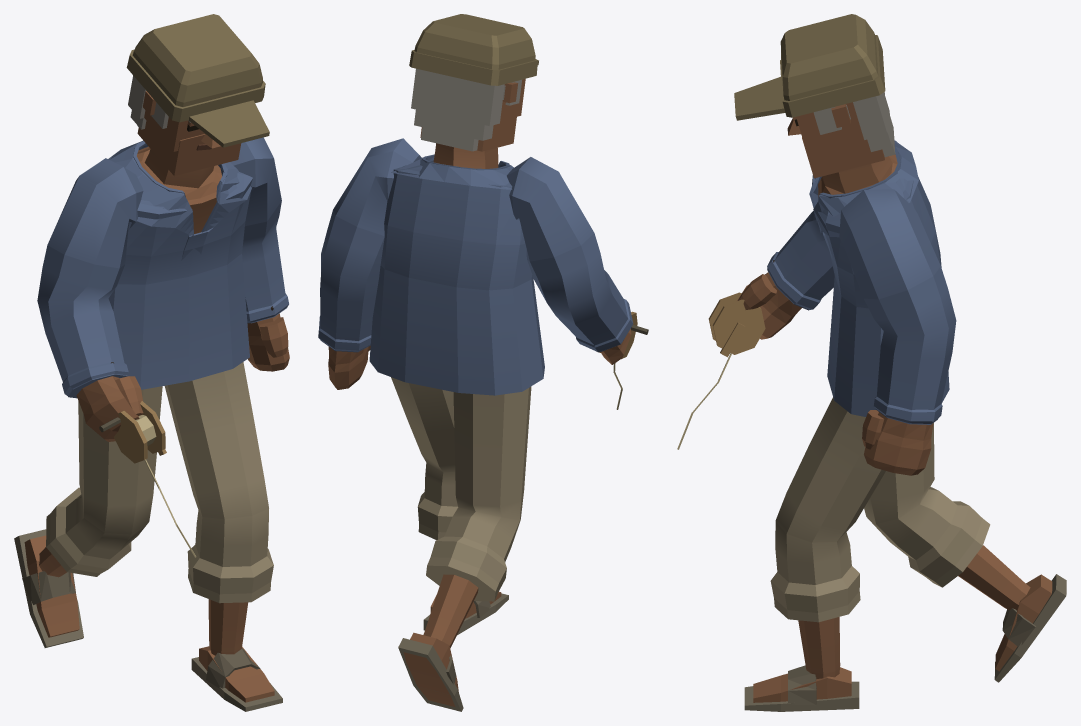
File: hanga-roa-fisherman-e56812__walk1.glb
The picture shows the model from 3 angles, left to right: view 1: azimuth 30°, elevation 25°; view 2: azimuth 150°, elevation 25°; view 3: azimuth 270°, elevation 25°; orthographic projection. The views are drawn at different scales.
Parts seen in each view (by area): view 1: hanga-roa-fisherman-e56812__walk1; view 2: hanga-roa-fisherman-e56812__walk1; view 3: hanga-roa-fisherman-e56812__walk1.
Part boxes in pixels (x1=…): hanga-roa-fisherman-e56812__walk1: x1=14, y1=14, x2=289, y2=711; hanga-roa-fisherman-e56812__walk1: x1=318, y1=14, x2=648, y2=711; hanga-roa-fisherman-e56812__walk1: x1=677, y1=14, x2=1066, y2=711.
Bounding box in the file's own units: 0.7369 × 1.7 × 0.8946.
